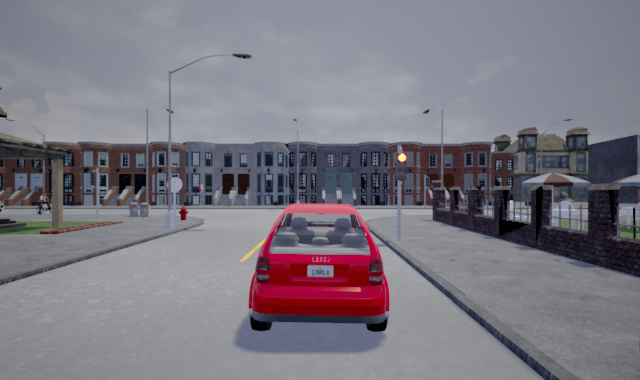bike: (29, 192, 62, 214)
traffic_light: (396, 152, 407, 182)
vehicle: (246, 202, 390, 332)
